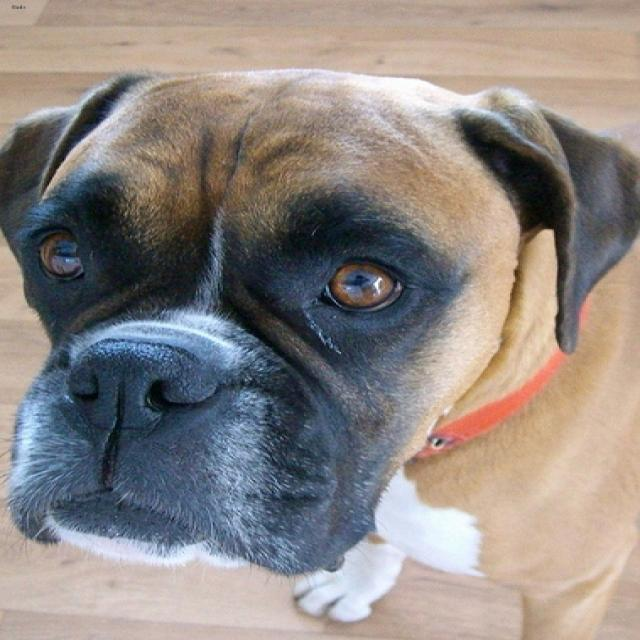dog-boxer: (2, 54, 637, 637)
